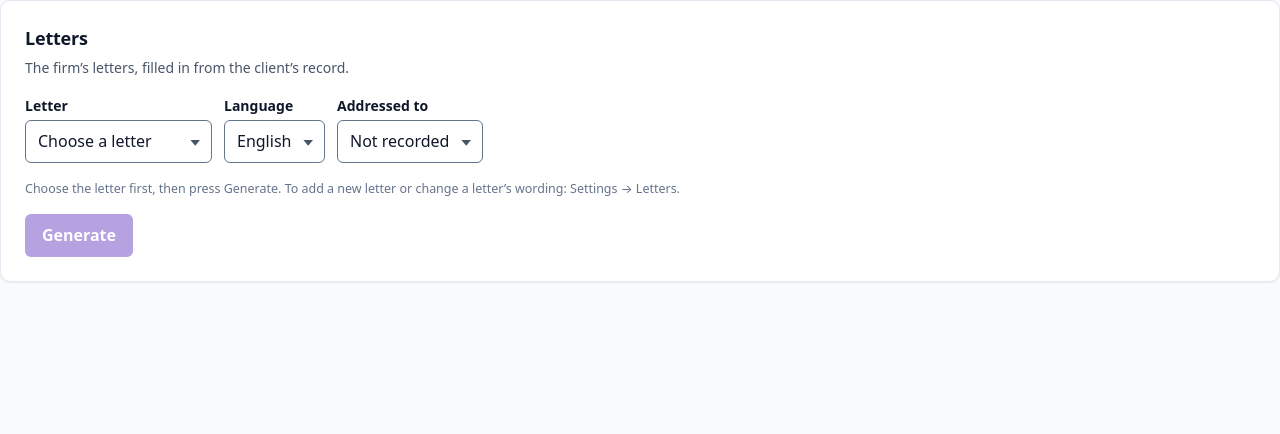
the firm’s letters (FR-15) › renders the body as text, never as markup
Select "Engagement letter" in the dropdown labelled "Letter". click: x=118, y=142
box: x1=25 y1=120 x2=212 y2=163
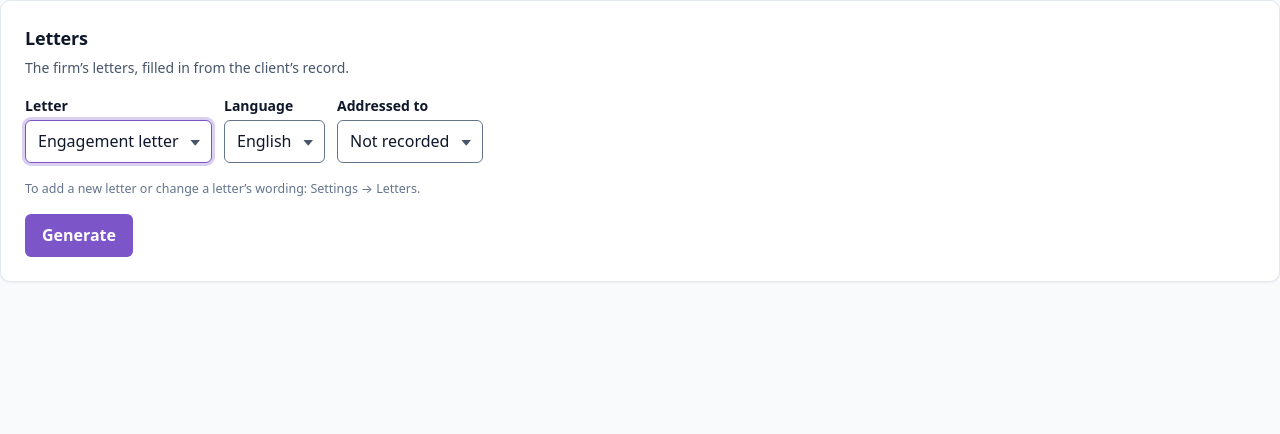
Select "English" in the dropdown labelled "Language". click: x=274, y=142
box: x1=224 y1=120 x2=325 y2=163
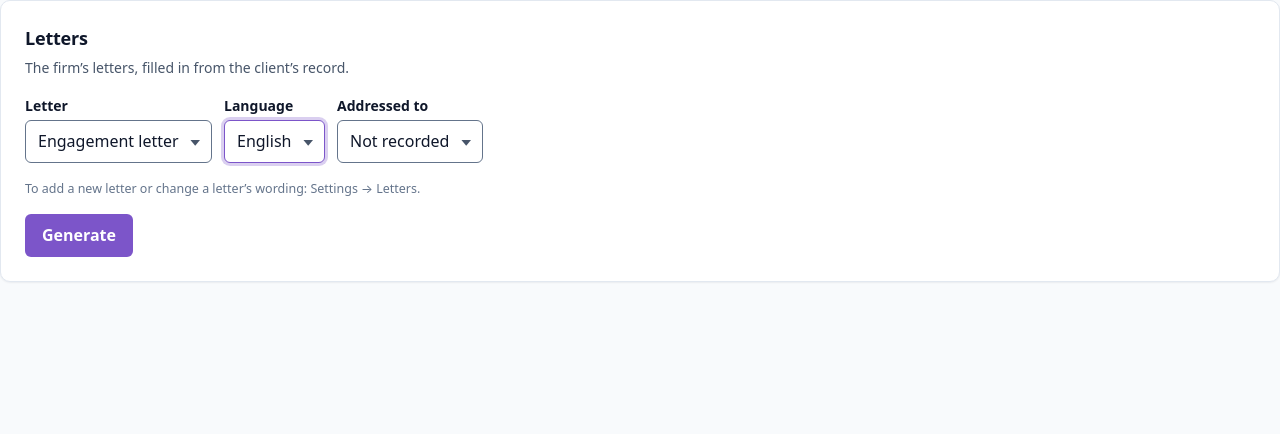
Click the button "Generate". click: x=79, y=236
box: x1=25 y1=214 x2=133 y2=257
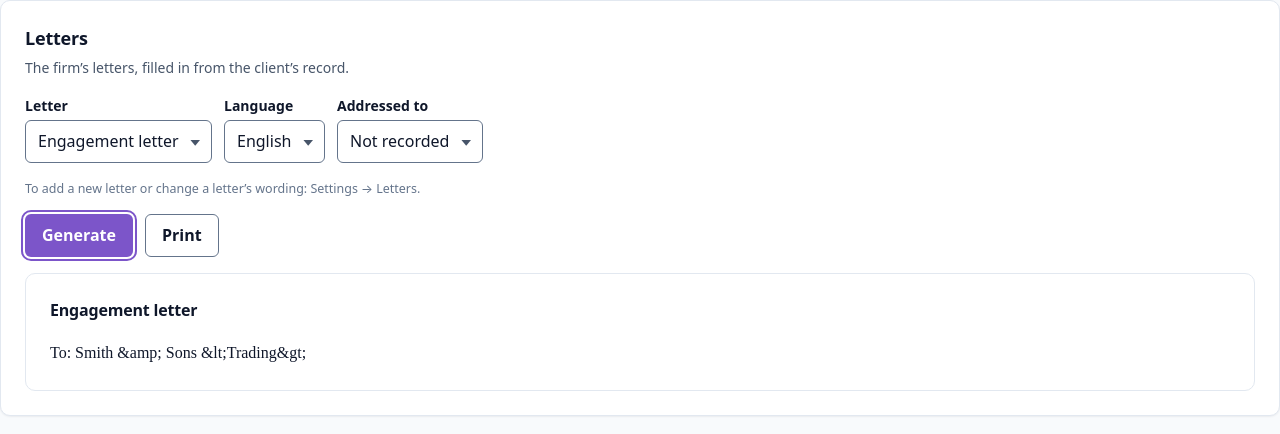
Check: the text "To: Smith &amp; Sons &lt;Trading&gt;" is shown, box x1=50 y1=344 x2=306 y2=361
